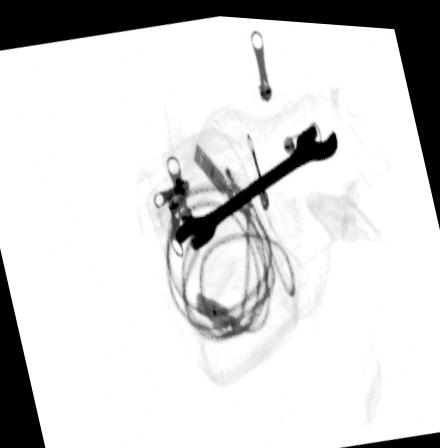Wrench: (171, 114, 340, 251)
